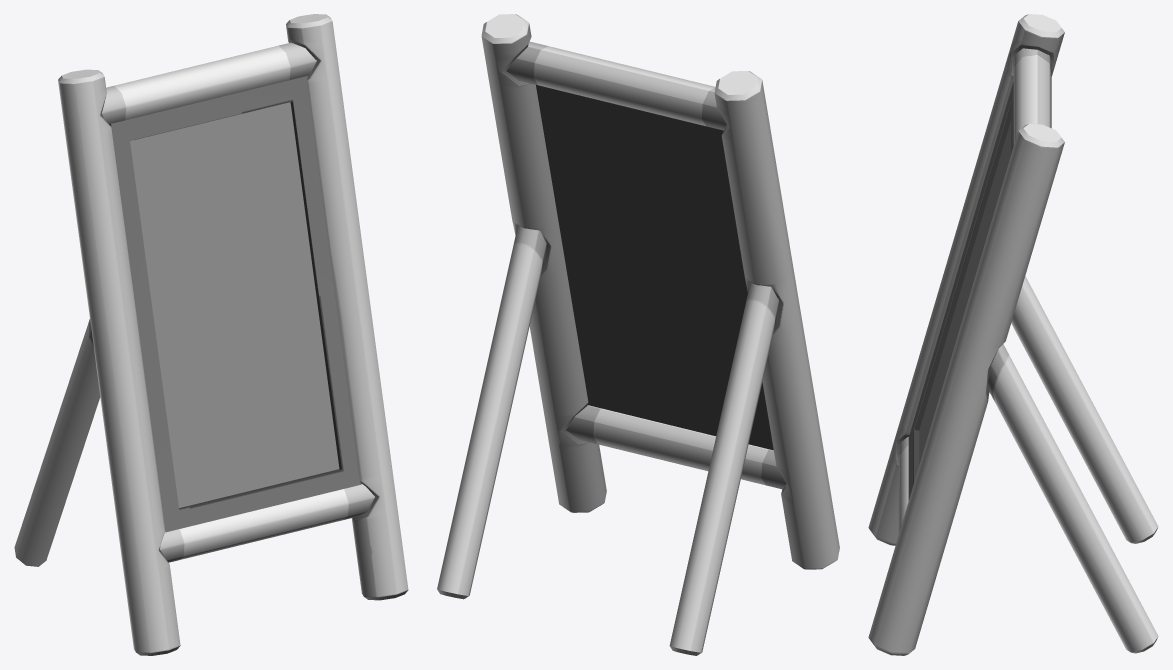
File: housepack_frame_floor_1.FBX
3 renders of one model, left to right at view 1: azimuth 30°, elevation 25°; view 2: azimuth 150°, elevation 25°; view 3: azimuth 270°, elevation 25°, orthographic. The views are drawn at different scales.
Visible parts, largest first — view 1: housepack_frame_floor_1; view 2: housepack_frame_floor_1; view 3: housepack_frame_floor_1.
Part boxes in pixels (x1=…): housepack_frame_floor_1: x1=14, y1=14, x2=408, y2=655; housepack_frame_floor_1: x1=437, y1=14, x2=839, y2=655; housepack_frame_floor_1: x1=868, y1=14, x2=1158, y2=655.
Size of the model in its own units: 49.17 by 92.14 by 46.31.
